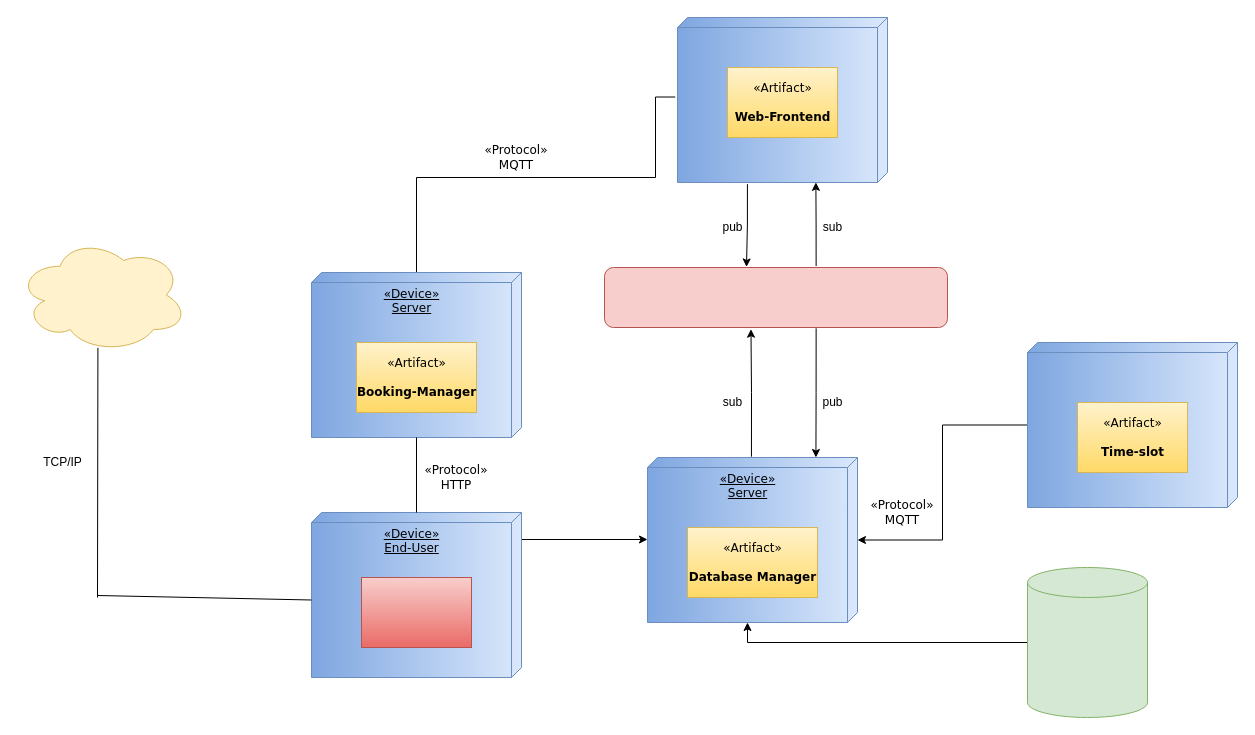
This 1255x735 diagram has some shape labels left out. The shapes that lost their labels are listed below. From the top down, each one's centre as x and y in pixels, then its label:
point 102,294: External IP
point 776,297: MQTT Broker(emqx)
point 416,612: «Web-Browser»
point 1087,642: Database MongoDB
